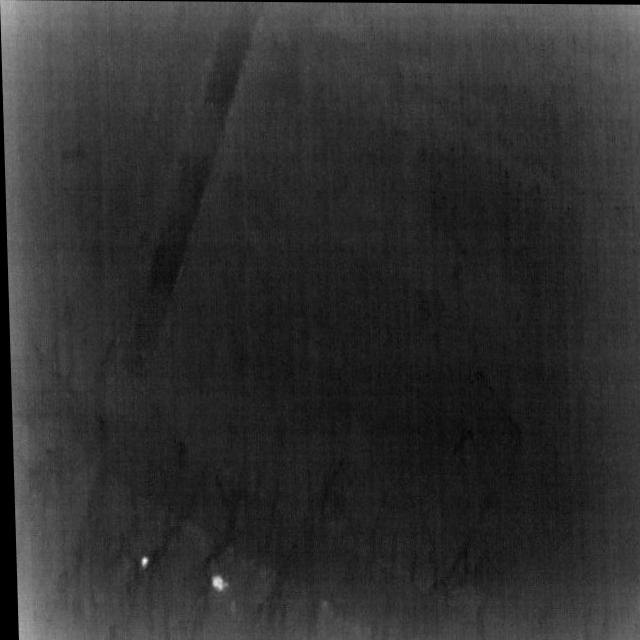deer: (207, 575, 224, 591), (137, 555, 145, 568)
